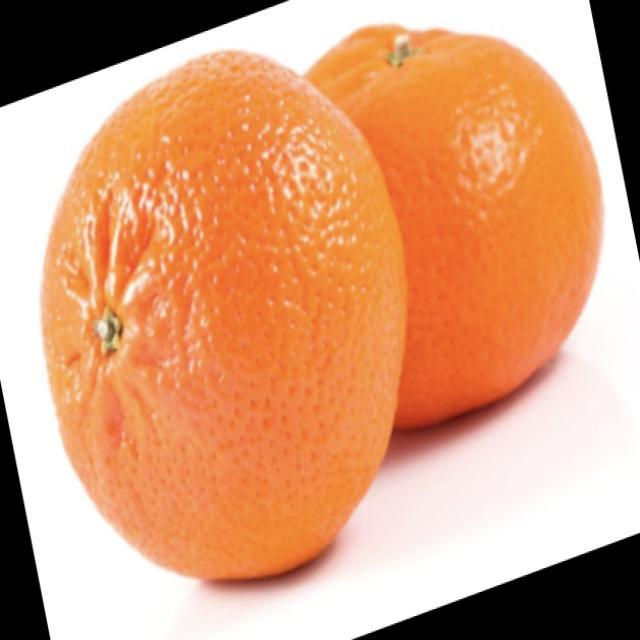matang: (42, 51, 441, 578), (306, 25, 601, 427)
